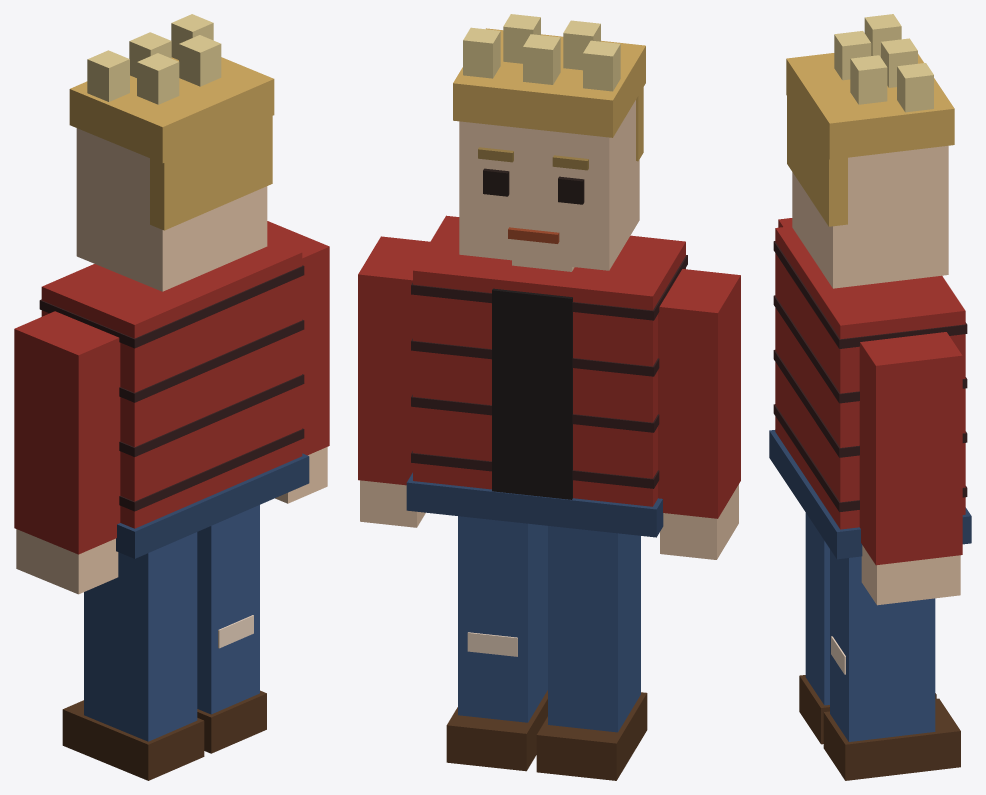
File: walker_8.glb
3 renders of one model, left to right at view 1: azimuth 30°, elevation 25°; view 2: azimuth 150°, elevation 25°; view 3: azimuth 270°, elevation 25°, orthographic. The views are drawn at different scales.
Parts seen in each view (by area): view 1: Box10, Box3, Box1, Box18, Box24, Box5, Box30, Box8, Box16, Box2, Box4, Box7 (+11 smaller); view 2: Box10, Box18, Box3, Box1, Box5, Box11, Box8, Box24, Box16, Box2, Box7, Box4 (+13 smaller); view 3: Box8, Box10, Box18, Box5, Box24, Box7, Box30, Box1, Box9, Box16, Box15, Box28 (+8 smaller).
Part boxes in pixels (x1=…): Box10: x1=41, y1=238, x2=302, y2=528; Box3: x1=14, y1=311, x2=120, y2=554; Box1: x1=84, y1=532, x2=197, y2=741; Box18: x1=76, y1=128, x2=267, y2=291; Box24: x1=69, y1=57, x2=274, y2=163; Box5: x1=197, y1=505, x2=259, y2=714; Box30: x1=150, y1=111, x2=272, y2=230; Box8: x1=267, y1=221, x2=329, y2=455; Box16: x1=116, y1=453, x2=309, y2=558; Box2: x1=62, y1=700, x2=204, y2=780; Box4: x1=16, y1=529, x2=118, y2=594; Box7: x1=197, y1=690, x2=266, y2=753; Box10: x1=413, y1=215, x2=685, y2=506; Box18: x1=459, y1=100, x2=639, y2=270; Box3: x1=658, y1=269, x2=740, y2=518; Box1: x1=548, y1=526, x2=640, y2=732; Box5: x1=458, y1=516, x2=547, y2=722; Box11: x1=492, y1=288, x2=572, y2=499; Box8: x1=358, y1=236, x2=429, y2=485; Box24: x1=453, y1=28, x2=645, y2=137; Box16: x1=406, y1=472, x2=663, y2=537; Box2: x1=536, y1=692, x2=647, y2=780; Box7: x1=446, y1=690, x2=547, y2=771; Box4: x1=660, y1=484, x2=738, y2=559; Box8: x1=859, y1=332, x2=962, y2=565; Box10: x1=775, y1=226, x2=965, y2=529; Box18: x1=792, y1=145, x2=948, y2=288; Box5: x1=830, y1=549, x2=935, y2=741; Box24: x1=786, y1=53, x2=954, y2=159; Box7: x1=823, y1=698, x2=960, y2=780; Box30: x1=787, y1=96, x2=847, y2=226; Box1: x1=805, y1=513, x2=829, y2=705; Box9: x1=861, y1=545, x2=960, y2=605; Box16: x1=769, y1=430, x2=971, y2=559; Box15: x1=773, y1=241, x2=967, y2=348; Box28: x1=850, y1=55, x2=887, y2=104.
Bounding box in the file's own units: 0.7789 × 1.6 × 0.4252.
